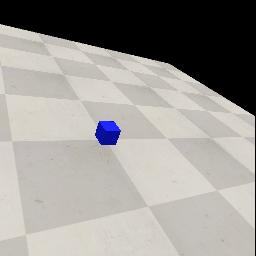box: (95, 121, 121, 145)
